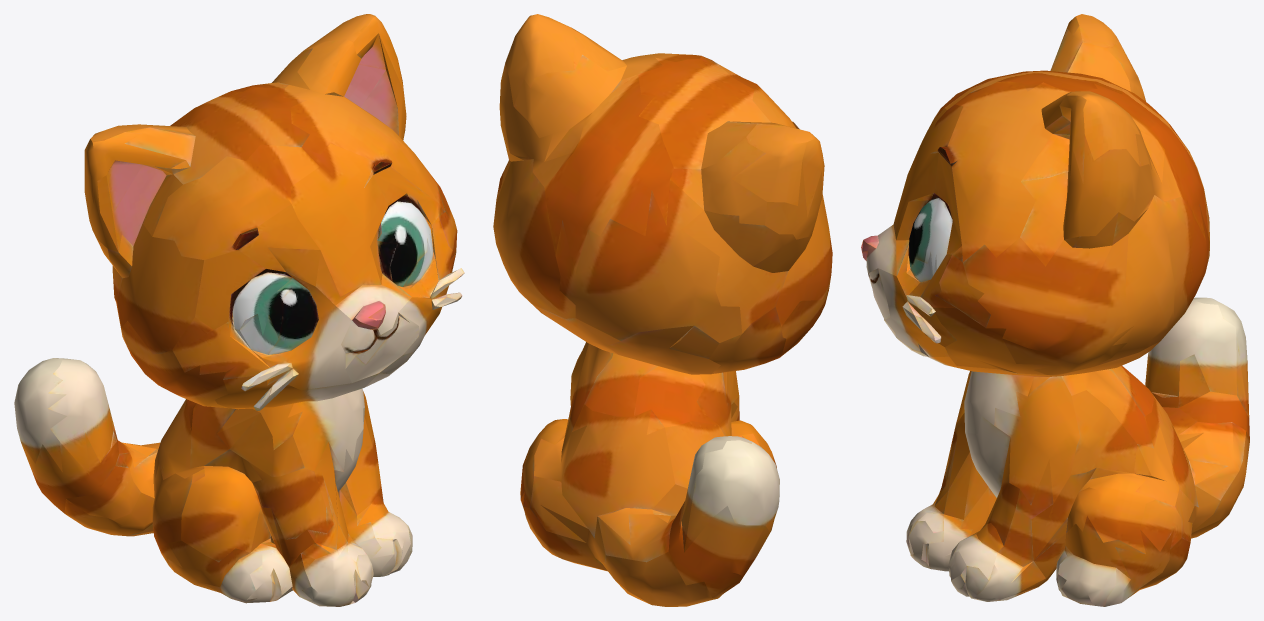
The model's file is cat.glb.
3 views of the same model, side by side, from view 1: azimuth 30°, elevation 25°; view 2: azimuth 150°, elevation 25°; view 3: azimuth 270°, elevation 25° (orthographic). The views are drawn at different scales.
Bounding box in the file's own units: 1.35 × 1.9 × 1.3.
1 material, 1 textured.
